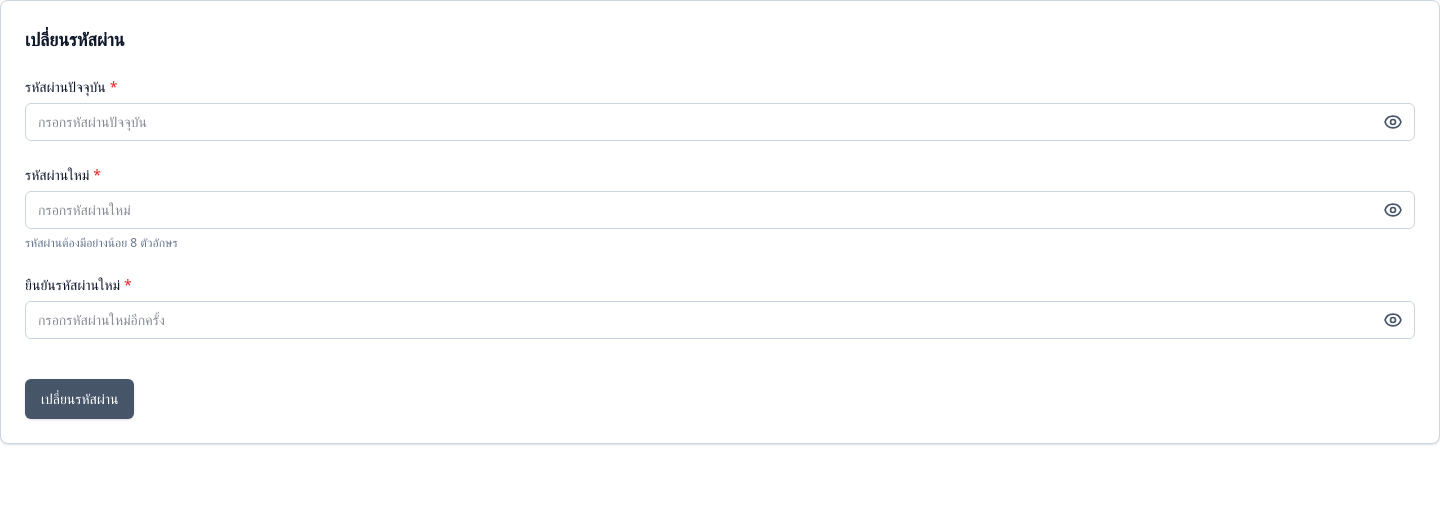
Scenario: ChangePasswordForm Component › should show validation errors for empty fields
Click the button "เปลี่ยนรหัสผ่าน". click: (80, 399)
box: [25, 379, 134, 419]
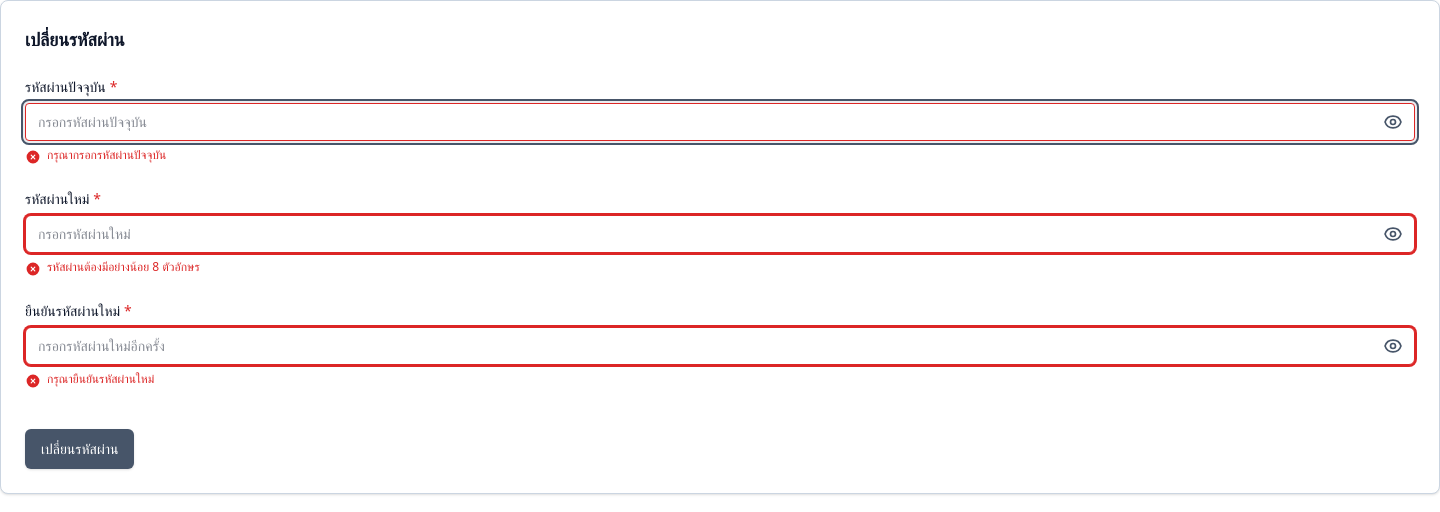
Expected: the text "รหัสผ่านต้องมีอย่างน้อย 8 ตัวอักษร" is shown, [47, 259, 200, 275]
Result: the text "กรุณากรอกรหัสผ่านปัจจุบัน" is shown at [47, 147, 166, 163]
Result: the text "กรุณายืนยันรหัสผ่านใหม่" is shown at [47, 371, 154, 387]
